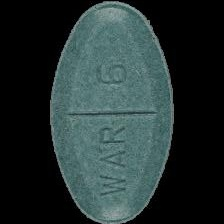68382-057: (0, 0, 224, 224)
